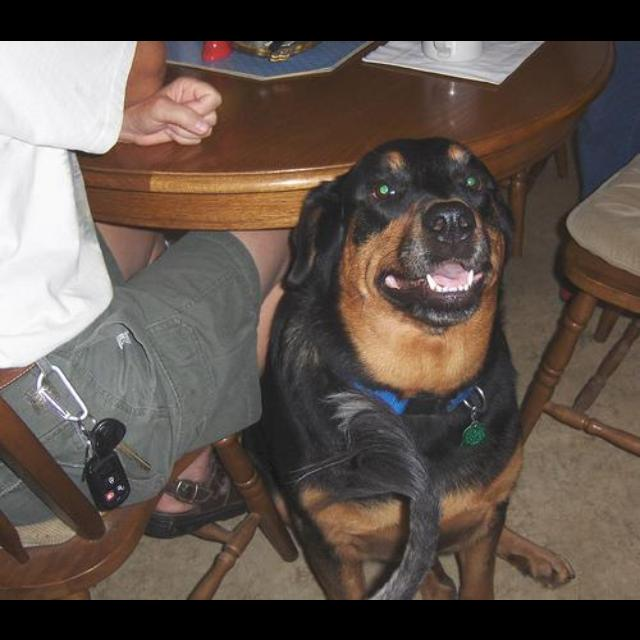person: (1, 41, 295, 541)
rottweiler: (242, 135, 577, 599)
